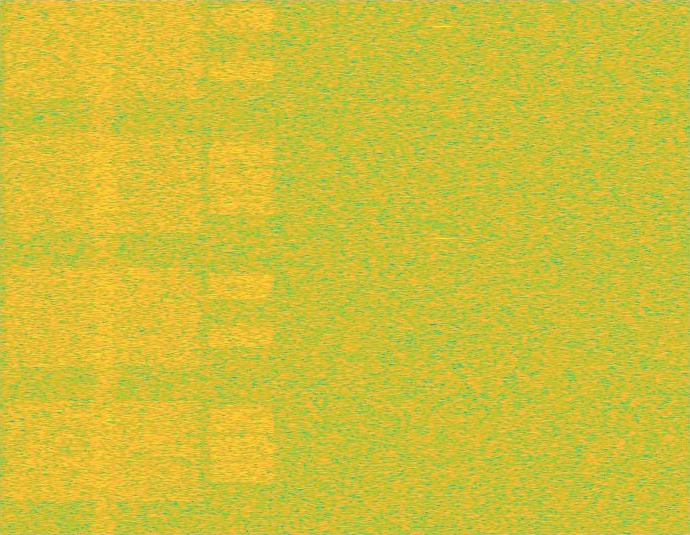5G: (0, 0, 207, 534)
DSSS: (90, 0, 117, 534)
LTE: (207, 0, 276, 534)
Radar: (437, 0, 451, 534)
